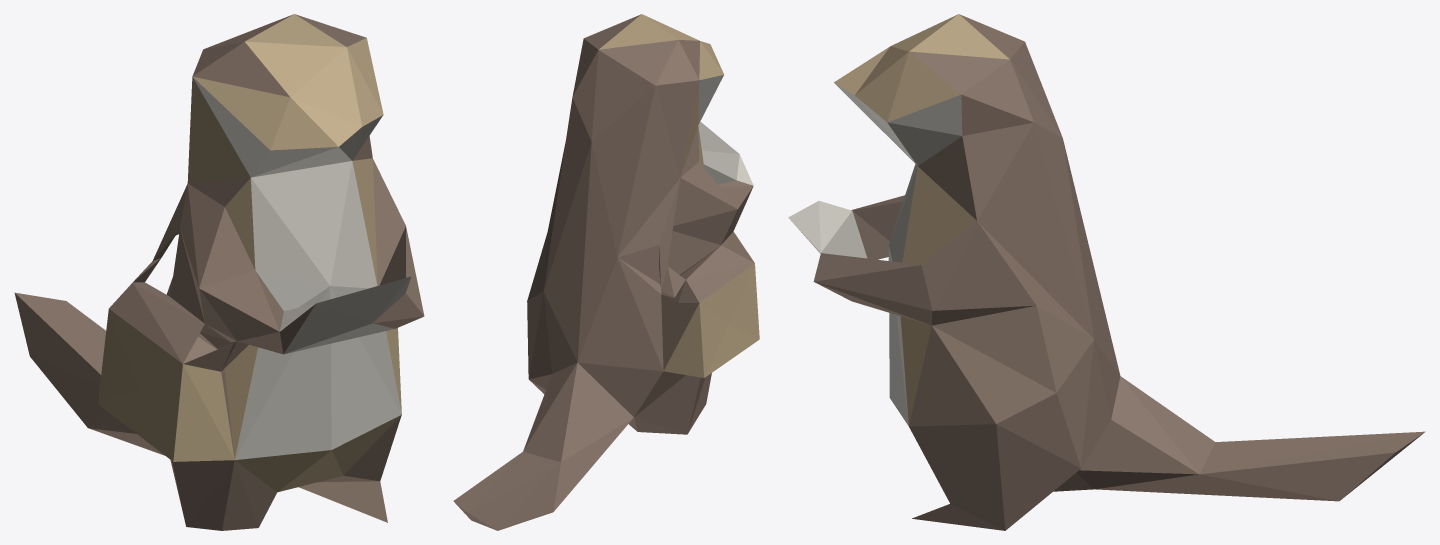
3 views of the same model, side by side, from view 1: azimuth 30°, elevation 25°; view 2: azimuth 150°, elevation 25°; view 3: azimuth 270°, elevation 25° (orthographic). The views are drawn at different scales.
Parts seen in each view (by area): view 1: lion-200; view 2: lion-200; view 3: lion-200.
Part boxes in pixels (box(x1,y1,x2,y2)): lion-200: box(14, 14, 424, 530); lion-200: box(453, 14, 759, 530); lion-200: box(788, 14, 1425, 530).
Size of the model in its own units: 0.4281 by 0.8047 by 1.
